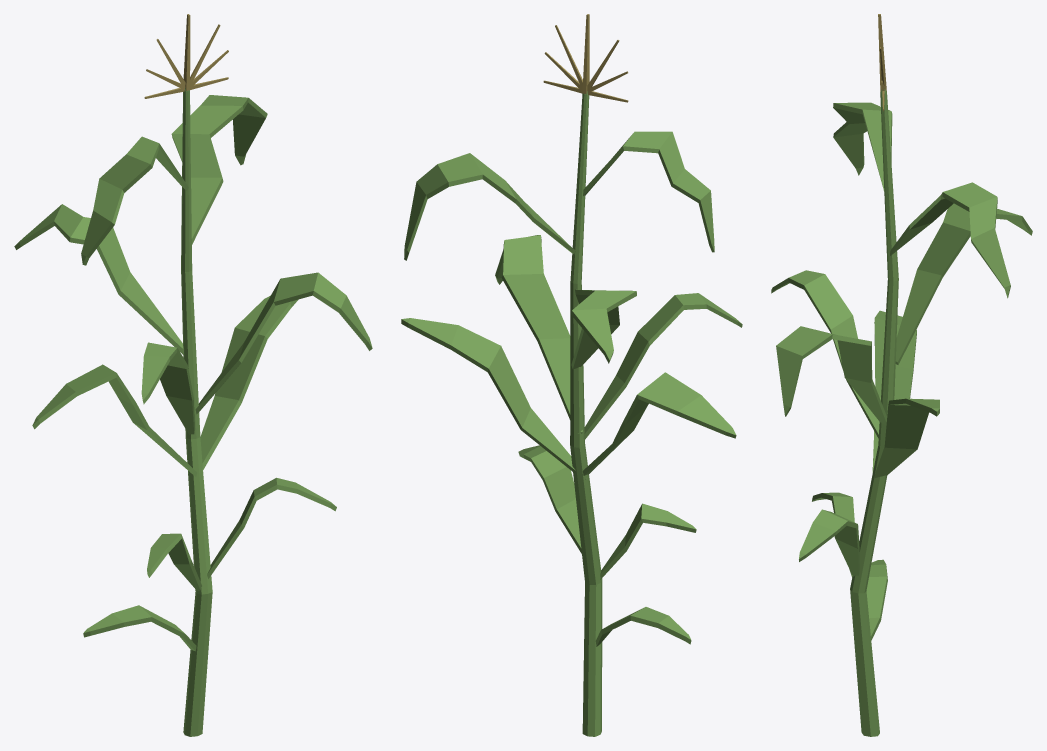
File: Corn_Harvested.gltf
3 renders of one model, left to right at view 1: azimuth 30°, elevation 25°; view 2: azimuth 150°, elevation 25°; view 3: azimuth 270°, elevation 25°, orthographic.
Parts seen in each view (by area): view 1: Corn_Harvested; view 2: Corn_Harvested; view 3: Corn_Harvested.
Boxes of the visible parts, <box> form: Corn_Harvested: <box>14,14,372,736</box>; Corn_Harvested: <box>401,14,742,736</box>; Corn_Harvested: <box>771,14,1032,736</box>.
Size of the model in its own units: 0.8873 by 1.97 by 0.649.
